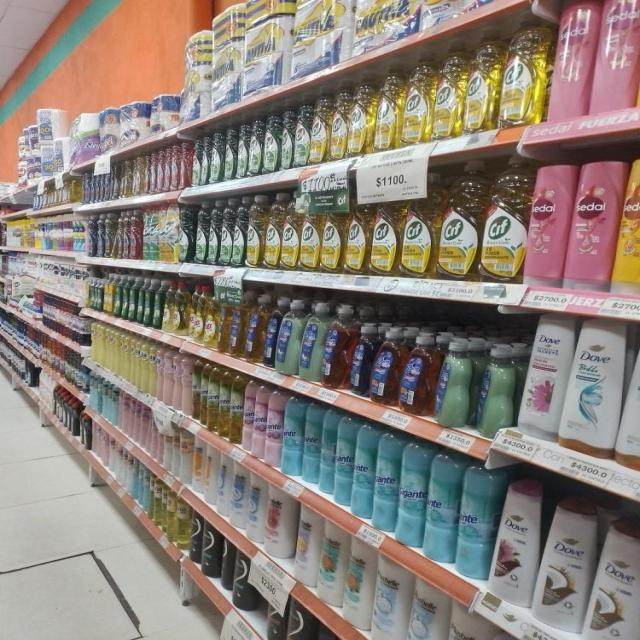cif_conc_bot_amarilla: (481, 156, 524, 283), (500, 14, 546, 128), (437, 162, 479, 281), (464, 31, 498, 133), (400, 178, 434, 278), (434, 41, 464, 140), (403, 57, 432, 145), (371, 186, 398, 276), (375, 66, 402, 152), (344, 186, 369, 275), (349, 73, 374, 157), (321, 189, 343, 274), (300, 190, 320, 272), (329, 84, 348, 160), (282, 191, 300, 271), (310, 89, 329, 164), (264, 192, 281, 270), (246, 194, 263, 268)
cif_conc_botella_verde: (263, 111, 280, 173), (294, 100, 309, 168), (232, 197, 245, 267), (219, 198, 232, 266), (248, 116, 262, 176), (194, 201, 207, 264), (280, 108, 293, 170), (180, 202, 193, 264), (209, 129, 223, 183), (223, 126, 236, 181), (236, 122, 248, 179), (192, 135, 205, 186), (208, 201, 218, 265)
cif_conc_sachet_amarillo: (160, 203, 180, 263)
heroe: (425, 446, 456, 565), (398, 437, 425, 548), (373, 429, 398, 534), (352, 420, 373, 521), (334, 410, 352, 508), (282, 392, 302, 478)
